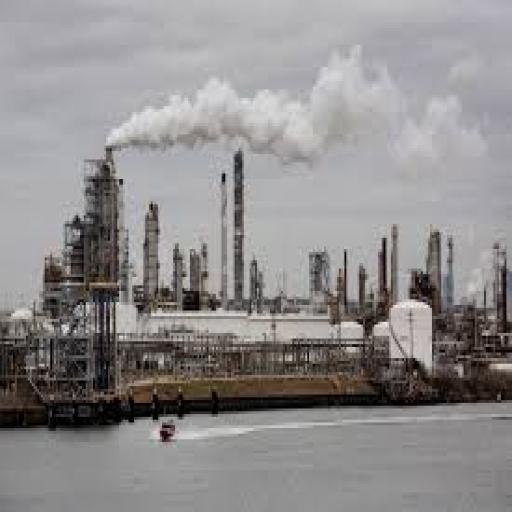smoke: (100, 64, 424, 179)
